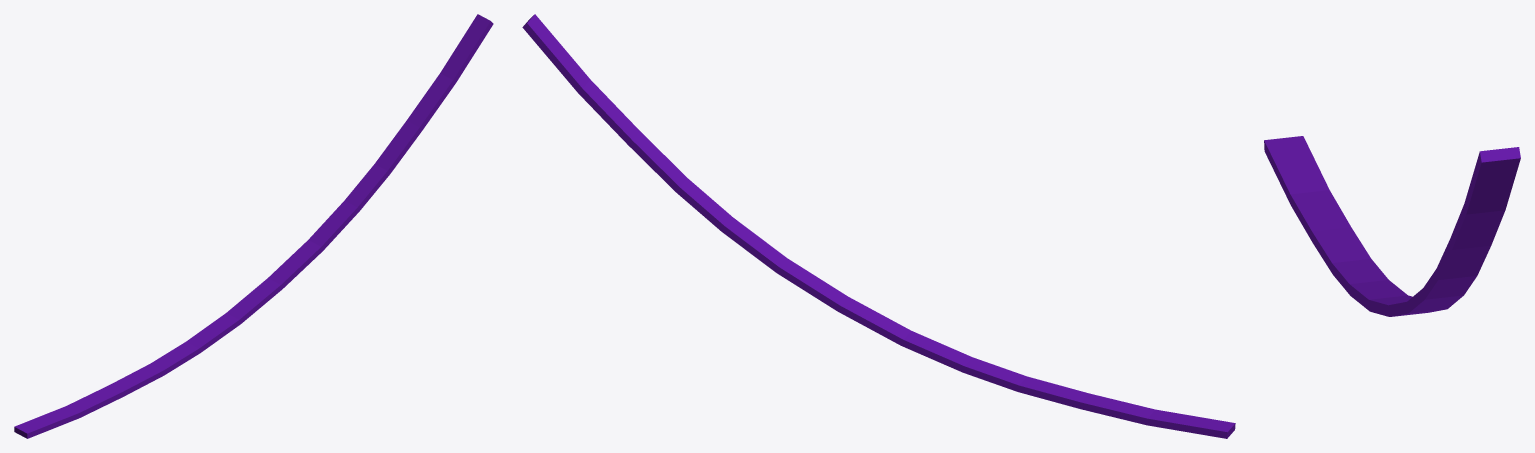
Rendered from Tape_14.fbx.
3 views of the same model, side by side, from view 1: azimuth 30°, elevation 25°; view 2: azimuth 150°, elevation 25°; view 3: azimuth 270°, elevation 25° (orthographic). The views are drawn at different scales.
Visible parts, largest first — view 1: Tape_14; view 2: Tape_14; view 3: Tape_14.
Part boxes in pixels (x1,y1,x2,y2): Tape_14: [14, 14, 493, 438]; Tape_14: [522, 14, 1235, 438]; Tape_14: [1264, 136, 1520, 316].
Size of the model in its own units: 728 by 336 by 155.
